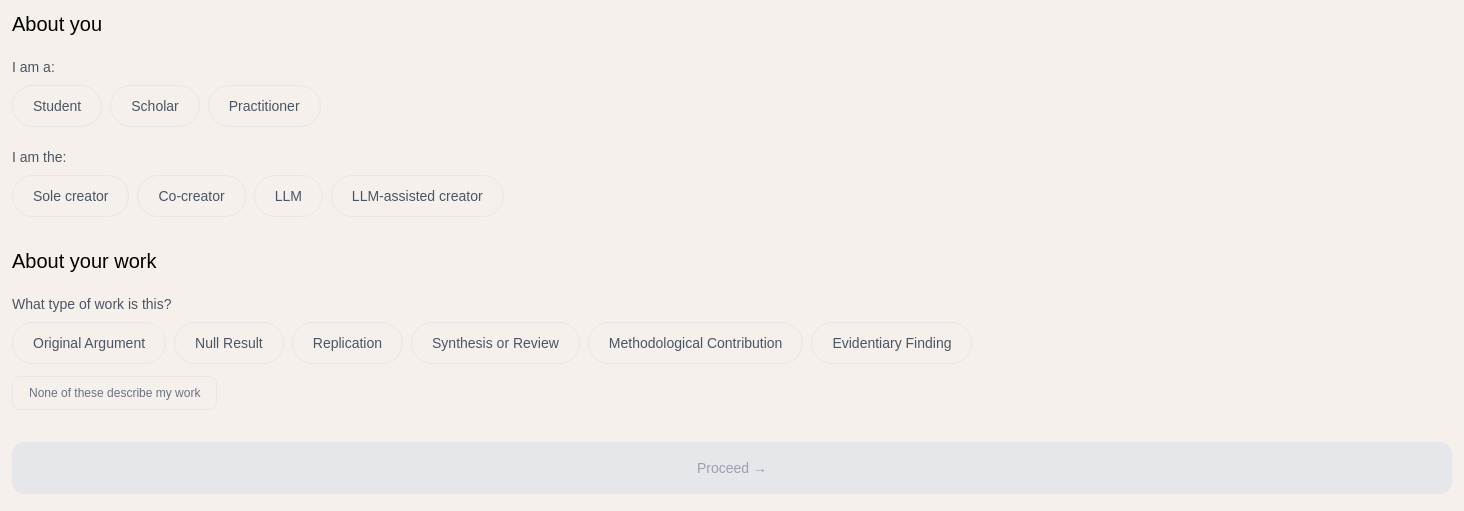
it: Stage2 › proceed button activates when role AND work type selected
Click the button with test id "maker-role-student" at (57, 106), box [12,85,102,127]
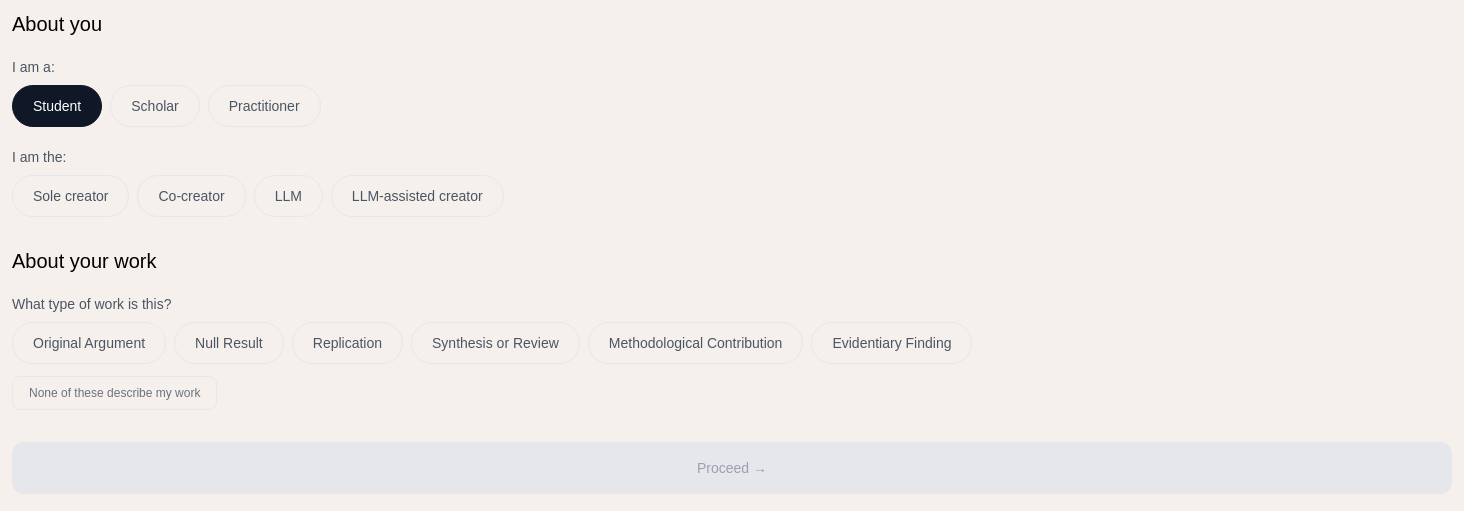
Click the button with test id "work-type-original-argument" at (89, 343), box [12,322,166,364]
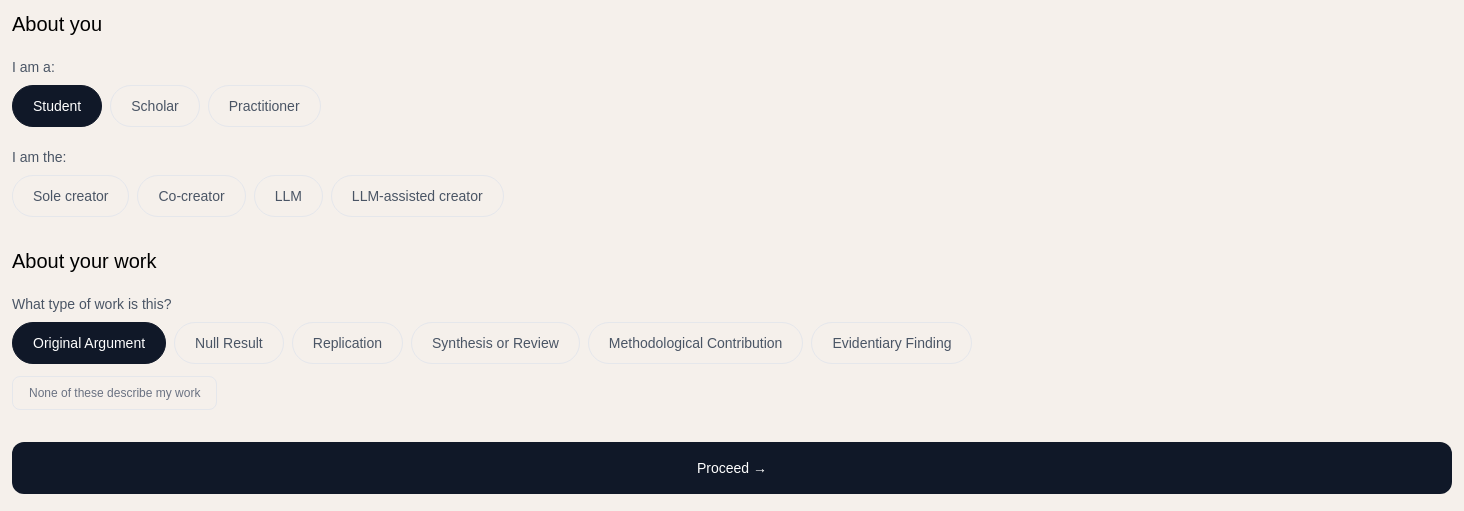
Expected: the button with test id "stage2-proceed" is enabled, [12,442,1452,494]
